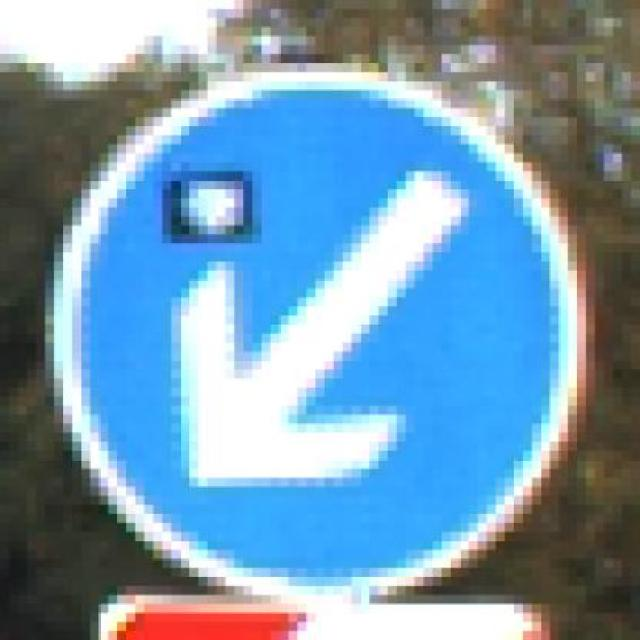Keep-Left: (27, 53, 631, 604)
